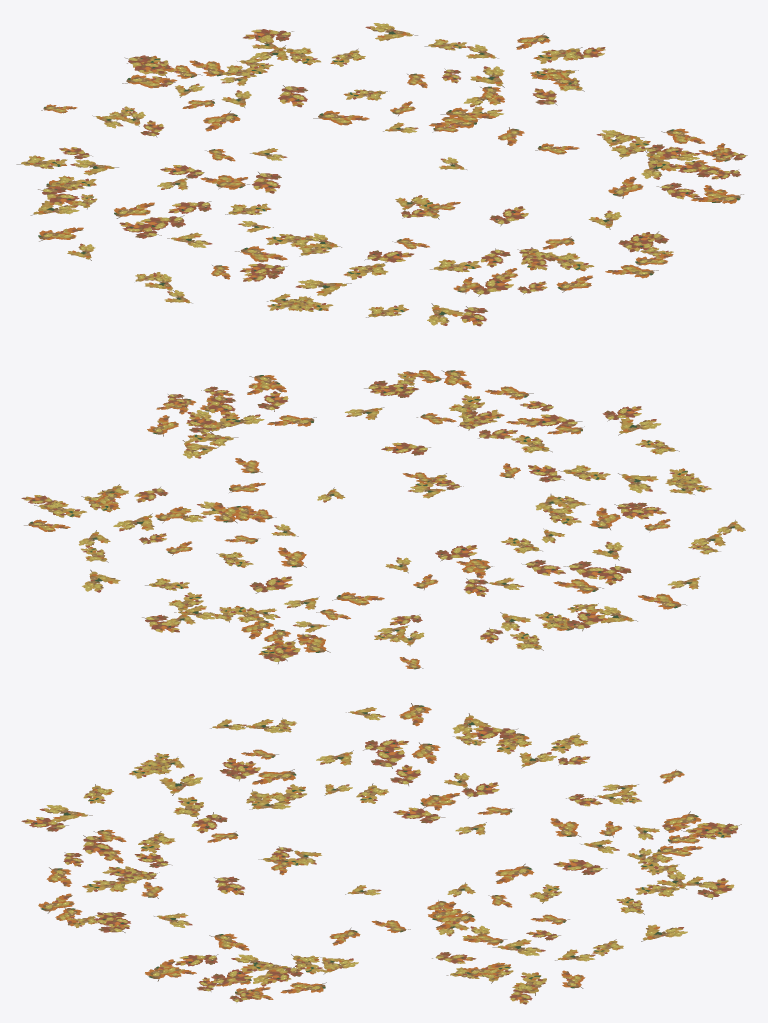
The model's file is poirier_adulte_c.fbx.
3 renders of one model, top to bottom at view 1: azimuth 30°, elevation 25°; view 2: azimuth 150°, elevation 25°; view 3: azimuth 270°, elevation 25°, orthographic. The views are drawn at different scales.
Visible parts, largest first — view 1: poirier_adulte_c_feuilles_sol; view 2: poirier_adulte_c_feuilles_sol; view 3: poirier_adulte_c_feuilles_sol.
Boxes of the visible parts, box(x1,y1,x2,y2) form: poirier_adulte_c_feuilles_sol: box(16, 23, 747, 326); poirier_adulte_c_feuilles_sol: box(21, 370, 745, 669); poirier_adulte_c_feuilles_sol: box(21, 703, 741, 1004).
Size of what is drawn, in the model's own units: 5.35 by 0.00595 by 5.46.
